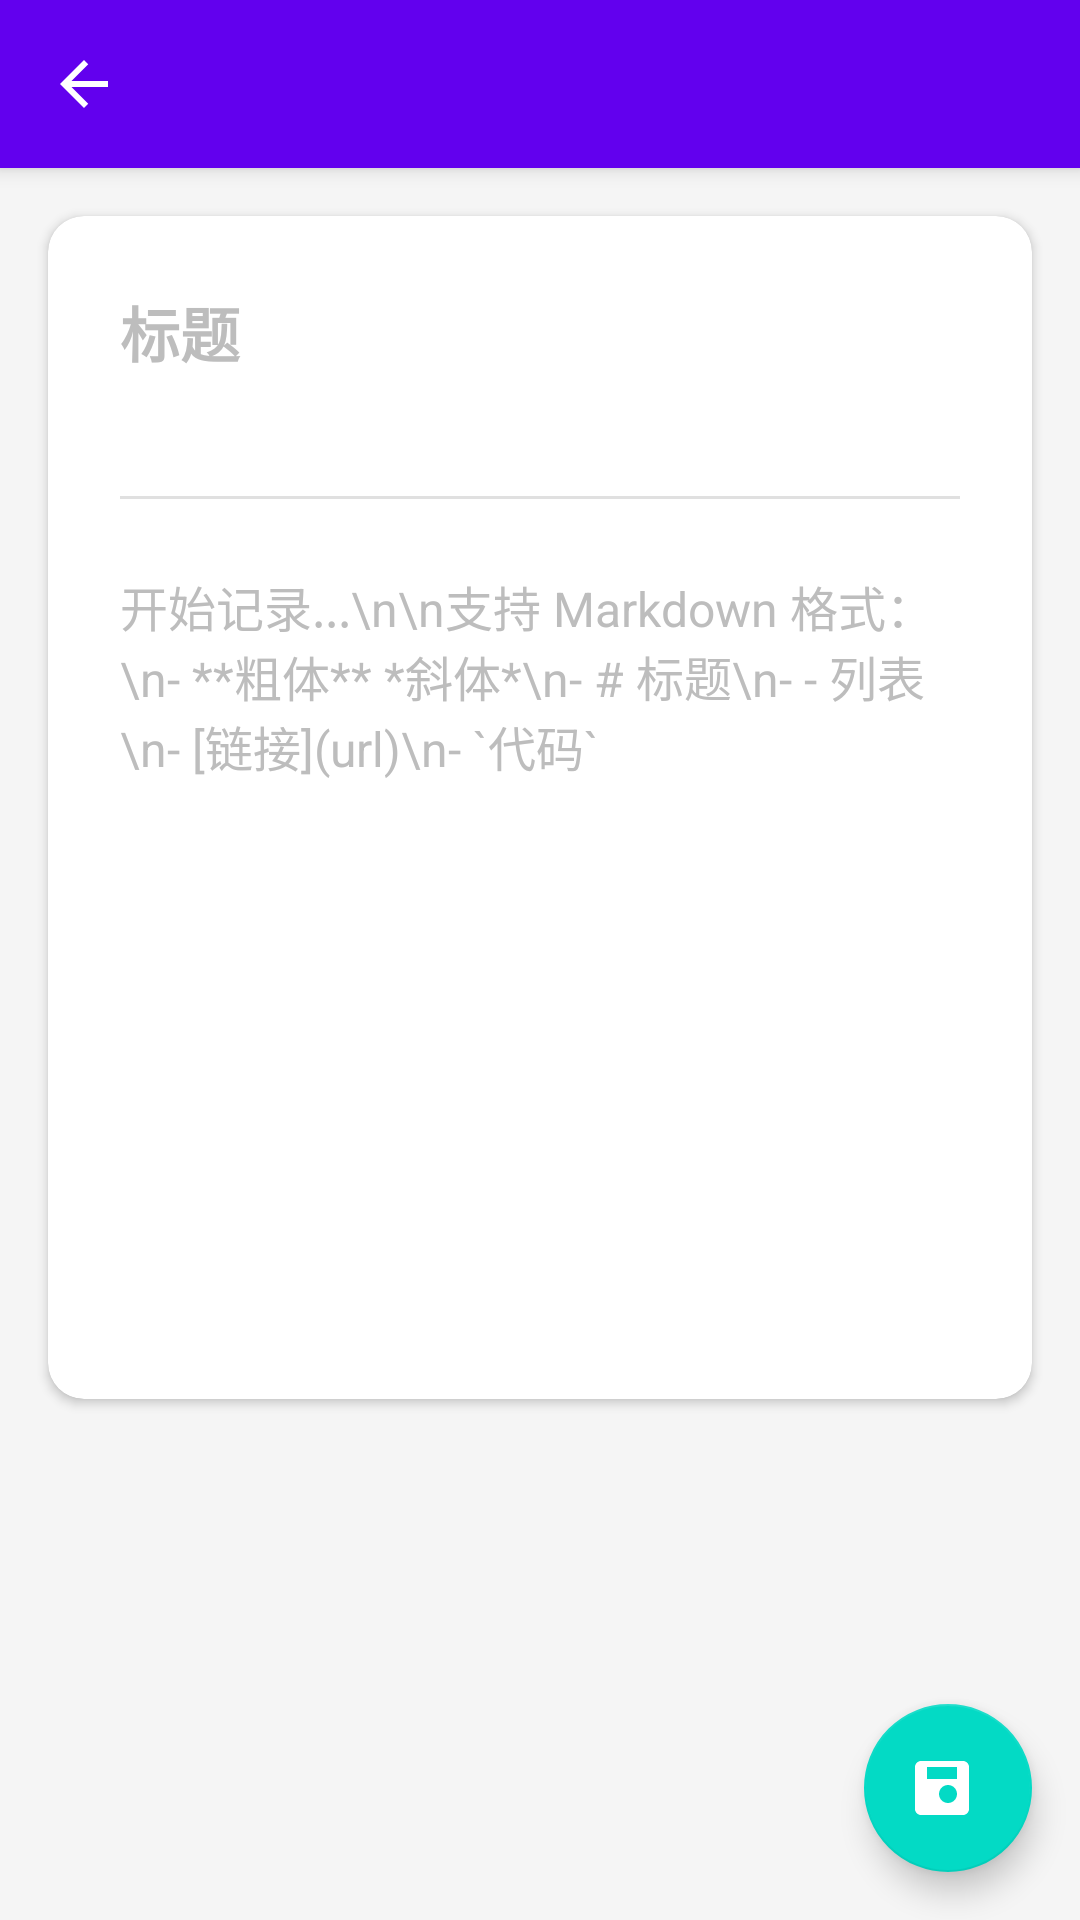

Icon bounding boxes for this 1080x1920 phone screenshot, format [left=x1, top=y1, right=x2, bottom=y2]:
保存笔记: [left=864, top=1704, right=1032, bottom=1872]
